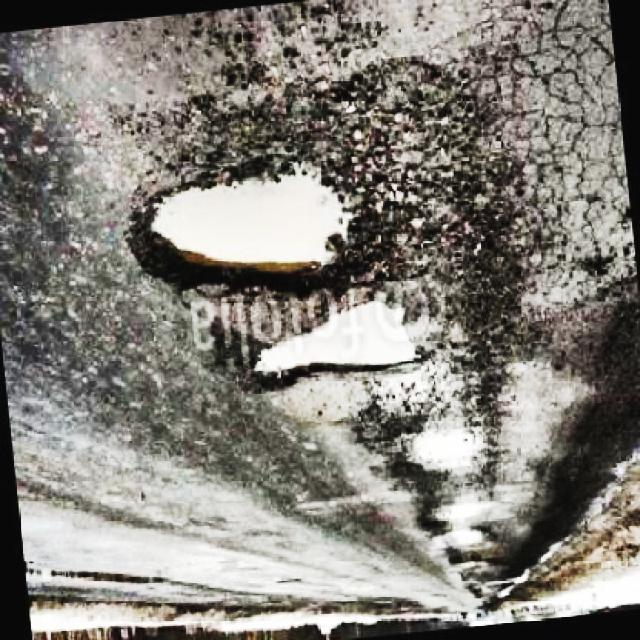pothole: (123, 151, 371, 292), (243, 292, 429, 388), (352, 392, 508, 472), (417, 494, 503, 537), (437, 526, 498, 563)
